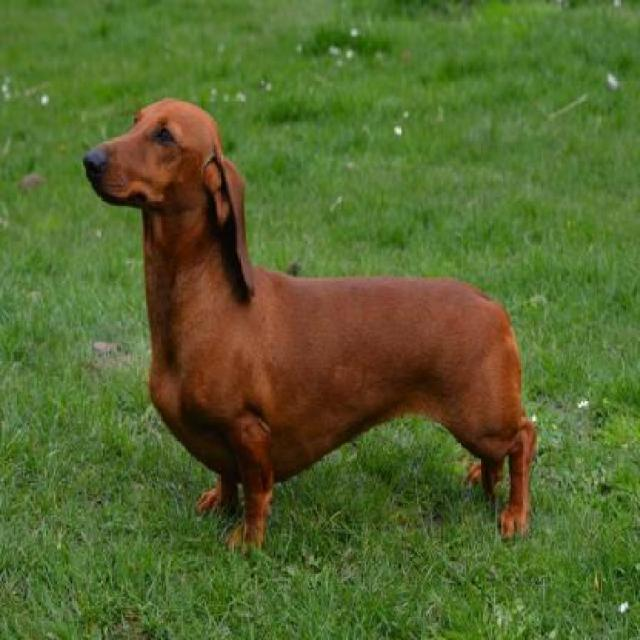Dog: (82, 94, 546, 566)
